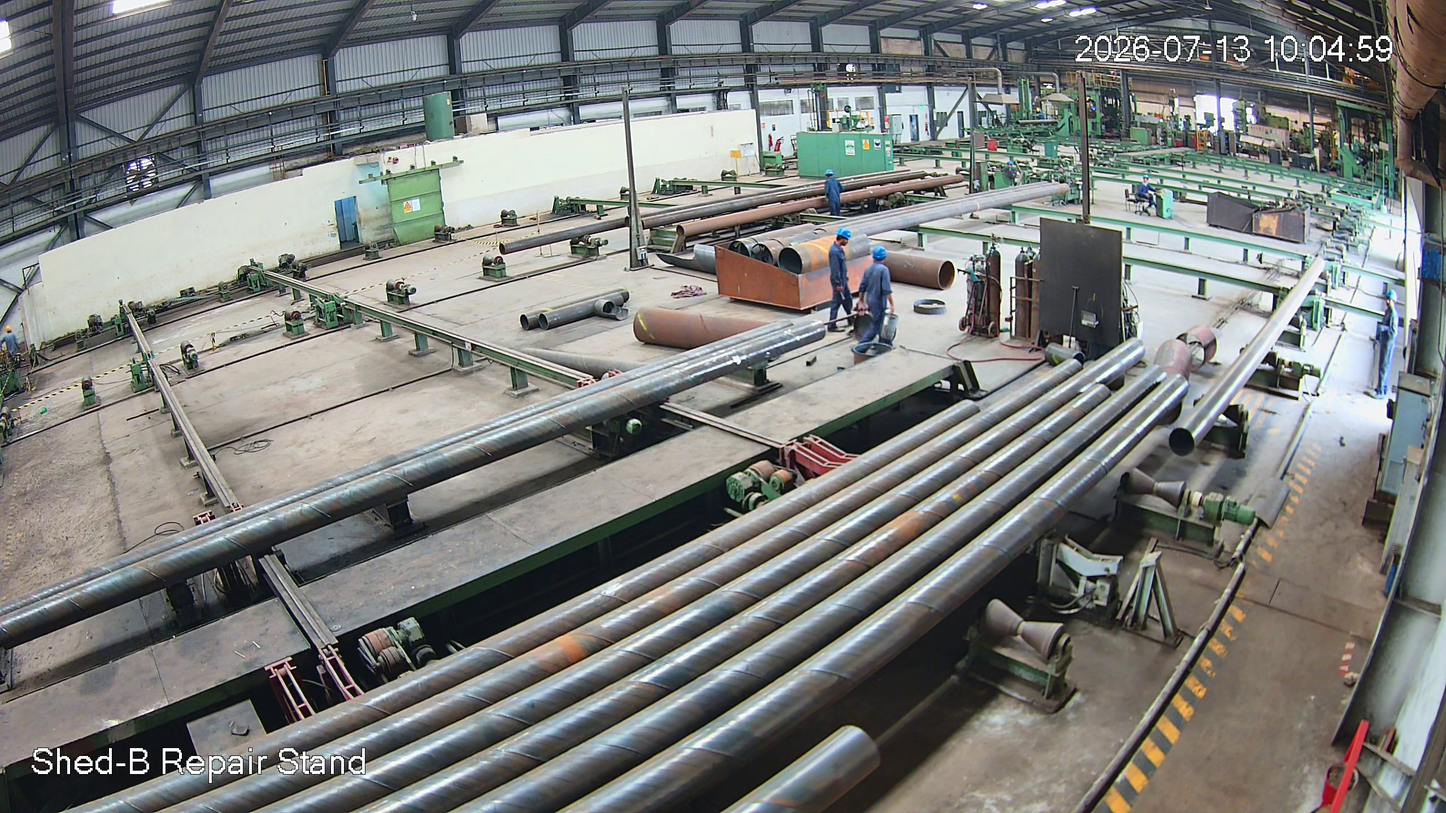Helmet: (868, 243, 890, 270), (834, 227, 855, 250)
Person: (858, 246, 899, 352), (826, 230, 859, 335)
